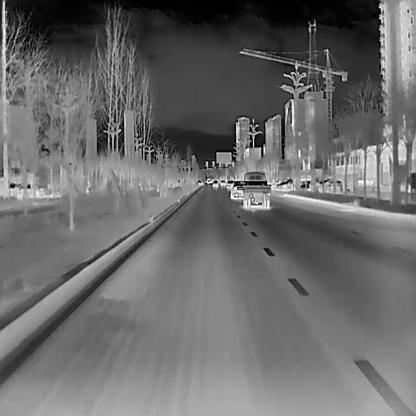car: (243, 171, 271, 210), (315, 178, 351, 193), (301, 175, 329, 191), (276, 177, 304, 190), (229, 180, 244, 199), (227, 180, 234, 190), (212, 180, 218, 189), (220, 179, 226, 186)
